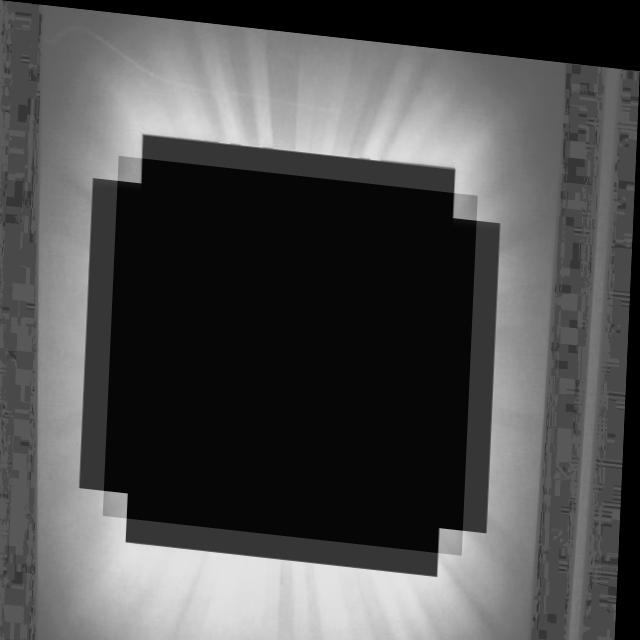qr_code: (107, 153, 479, 544)
